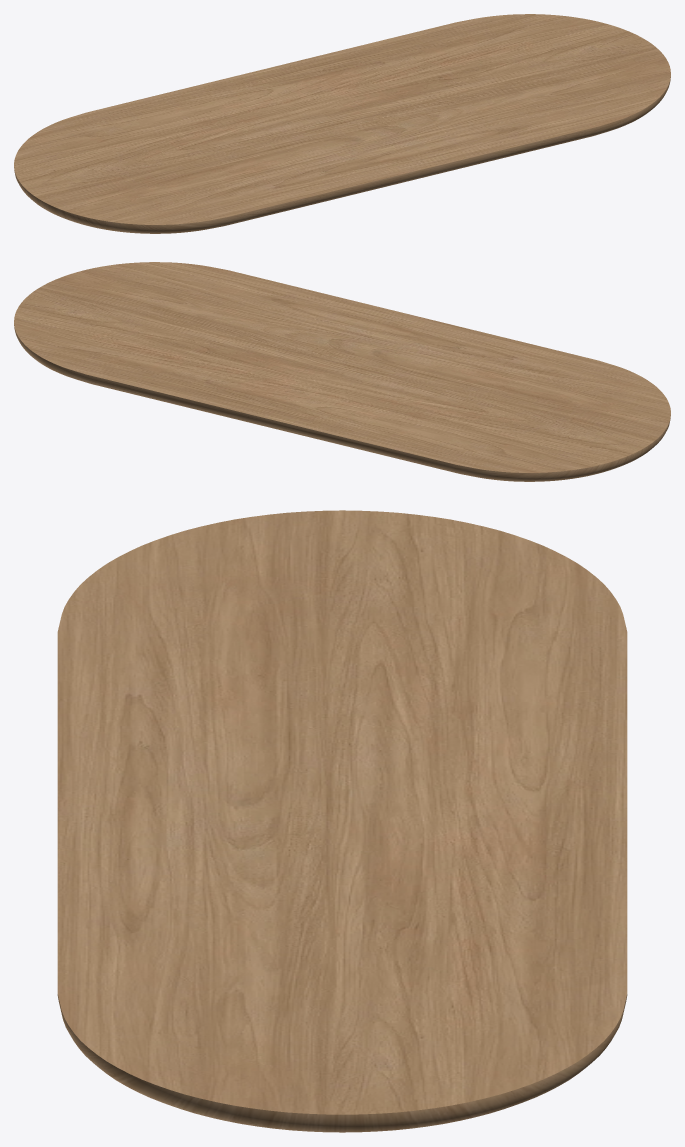
File: 02_Tauari_wood.obj
The picture shows the model from 3 angles, top to bottom: view 1: azimuth 30°, elevation 25°; view 2: azimuth 150°, elevation 25°; view 3: azimuth 270°, elevation 25°; orthographic projection. The views are drawn at different scales.
Visible parts, largest first — view 1: 02_Tauari_wood; view 2: 02_Tauari_wood; view 3: 02_Tauari_wood.
Boxes of the visible parts, x1=… form: 02_Tauari_wood: x1=14, y1=14, x2=670, y2=233; 02_Tauari_wood: x1=14, y1=262, x2=670, y2=481; 02_Tauari_wood: x1=57, y1=510, x2=627, y2=1132.
Bounding box in the file's own units: 19.78 × 0.4478 × 7.88.
1 material, 1 textured.
